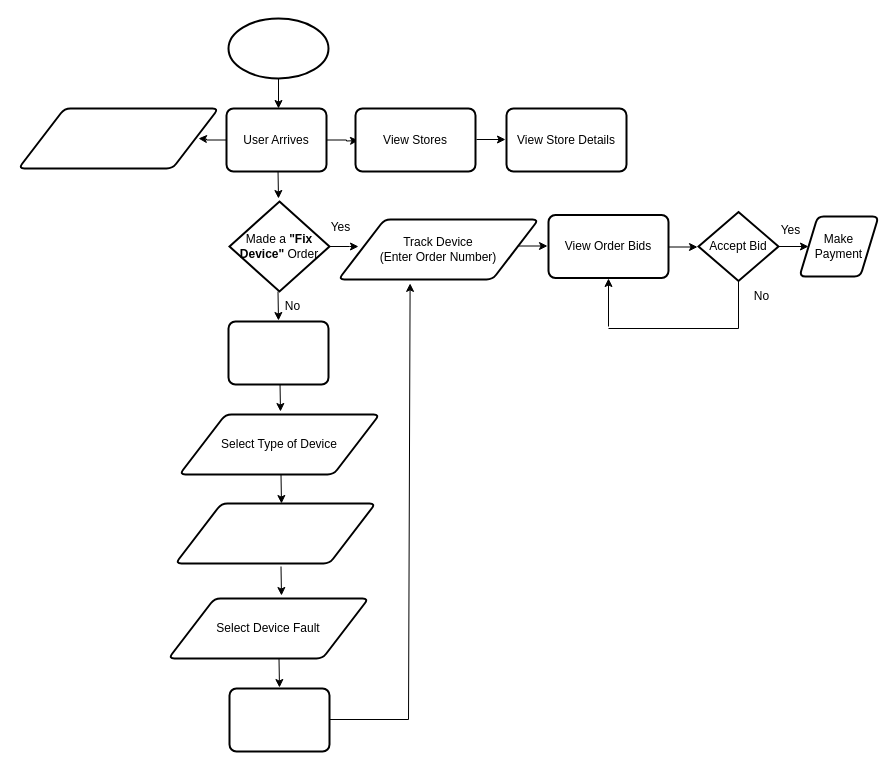
Some shapes in this 896 by 769 pixel diagram are drawn without their labels. The shapes that lost their labels are listed below. From the top down, each one's centre as x and y in pixels, then its label:
At (x=278, y=48): "Start".
At (x=118, y=138): "Log In / Sign Up".
At (x=278, y=352): "Fix My Device".
At (x=275, y=533): "Select Brand of Device".
At (x=279, y=719): "Get Order Number".
